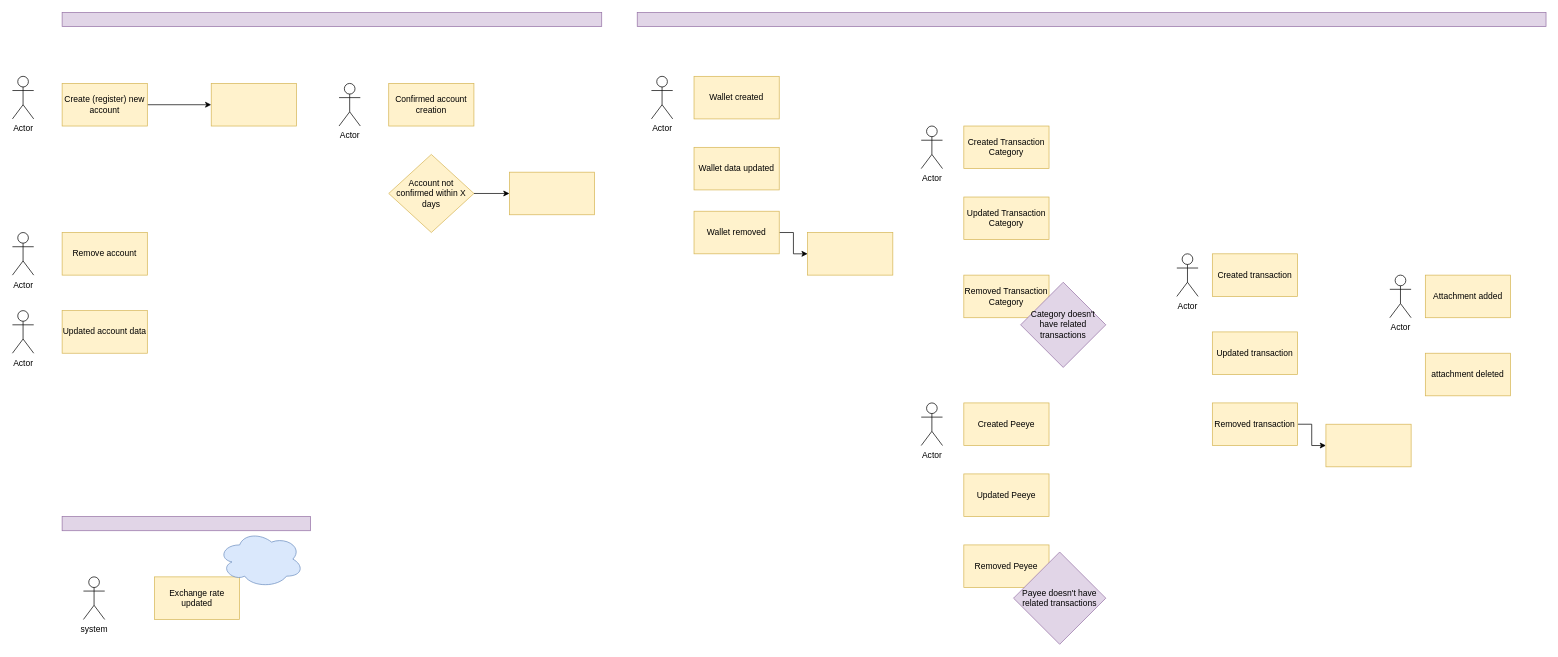
This 1558x657 diagram has some shape labels left out. Here are the shapes that lost their labels. From the top down, the centre of each, then its label:
At (331,19): "Account".
At (1091,19): "Wallet / transactions".
At (253,104): "Sent confirmation email".
At (552,193): "Account removed".
At (850,253): "Wallet's transactions removed".
At (1368,445): "Removed all attachments".
At (186,523): "Currencies".
At (261,559): "External source".
